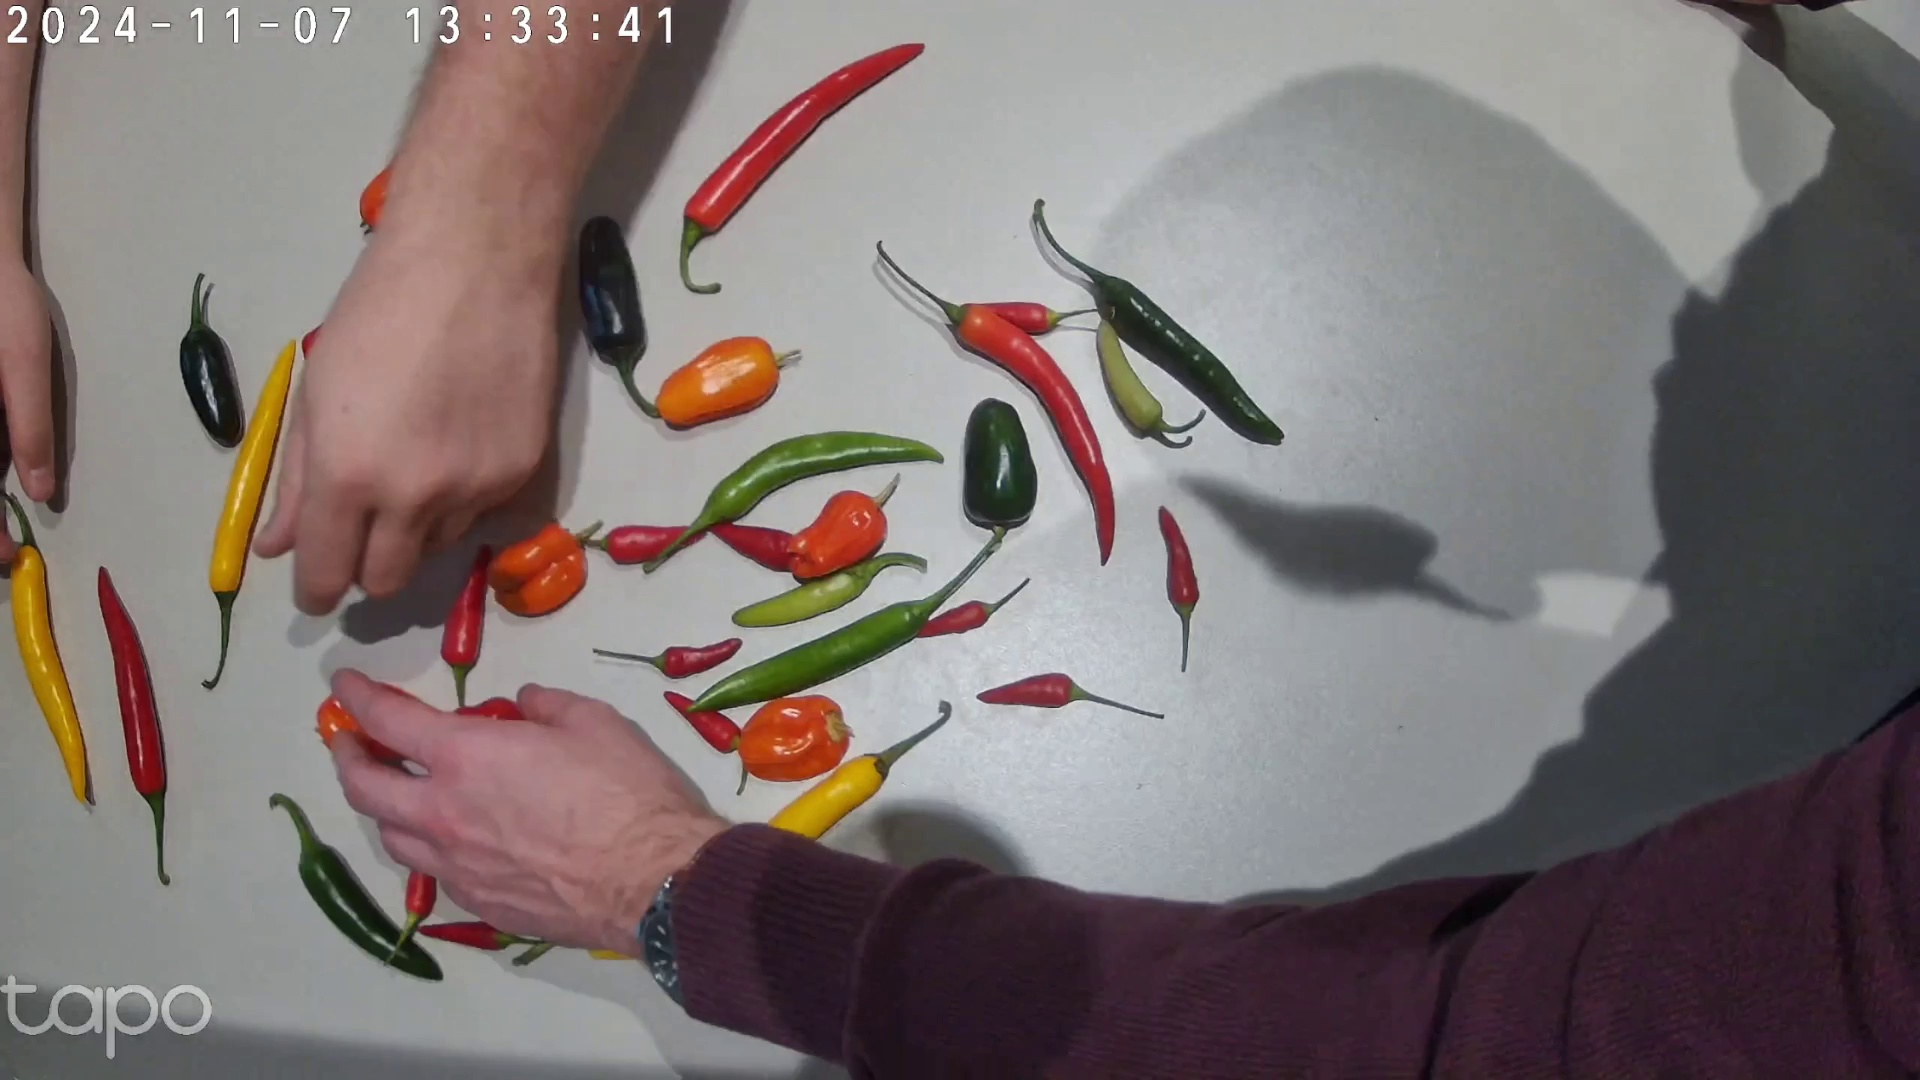Jalapeno_Green: (269, 793, 443, 982), (578, 215, 661, 418), (179, 273, 244, 448), (963, 398, 1038, 539)
Leon_Orange: (654, 336, 800, 427), (787, 472, 899, 579), (487, 520, 604, 616), (740, 694, 853, 782)
Rawit_Green: (732, 553, 927, 626), (1097, 319, 1205, 434)
Rawit_Red: (976, 673, 1164, 720), (663, 691, 748, 795), (440, 543, 491, 705), (918, 578, 1031, 638), (1159, 505, 1199, 673), (592, 638, 742, 678), (384, 870, 436, 967), (584, 525, 705, 564), (960, 302, 1100, 334), (708, 524, 794, 571), (419, 922, 547, 951)
Spanish_Pepper_Green: (1034, 199, 1284, 442), (687, 525, 1005, 715), (642, 431, 945, 575)
Spanish_Pepper_Red: (876, 237, 1116, 566), (680, 42, 924, 294), (98, 566, 170, 886)
Spanish_Pepper_Yellow: (589, 700, 952, 960), (202, 338, 297, 690), (0, 491, 87, 804)
